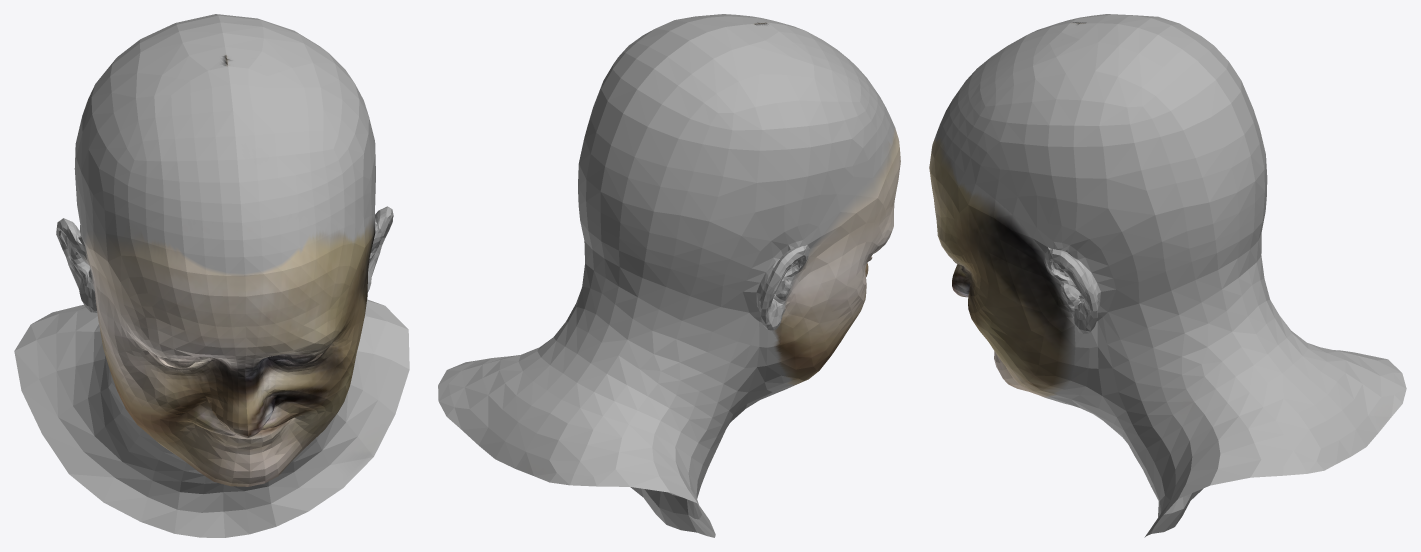
The model's file is ezgif-frame-087.obj.
The picture shows the model from 3 angles, left to right: view 1: azimuth 30°, elevation 25°; view 2: azimuth 150°, elevation 25°; view 3: azimuth 270°, elevation 25°; orthographic projection. The views are drawn at different scales.
Bounding box in the file's own units: 0.2373 × 0.3214 × 0.2848.
Materials: 1 (1 with a texture image).
